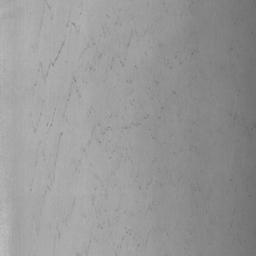Silk spot: (48, 40, 65, 69), (71, 76, 81, 98), (45, 174, 55, 195), (38, 62, 48, 82), (121, 123, 141, 132), (245, 122, 256, 138), (12, 221, 20, 243), (57, 132, 63, 148)
